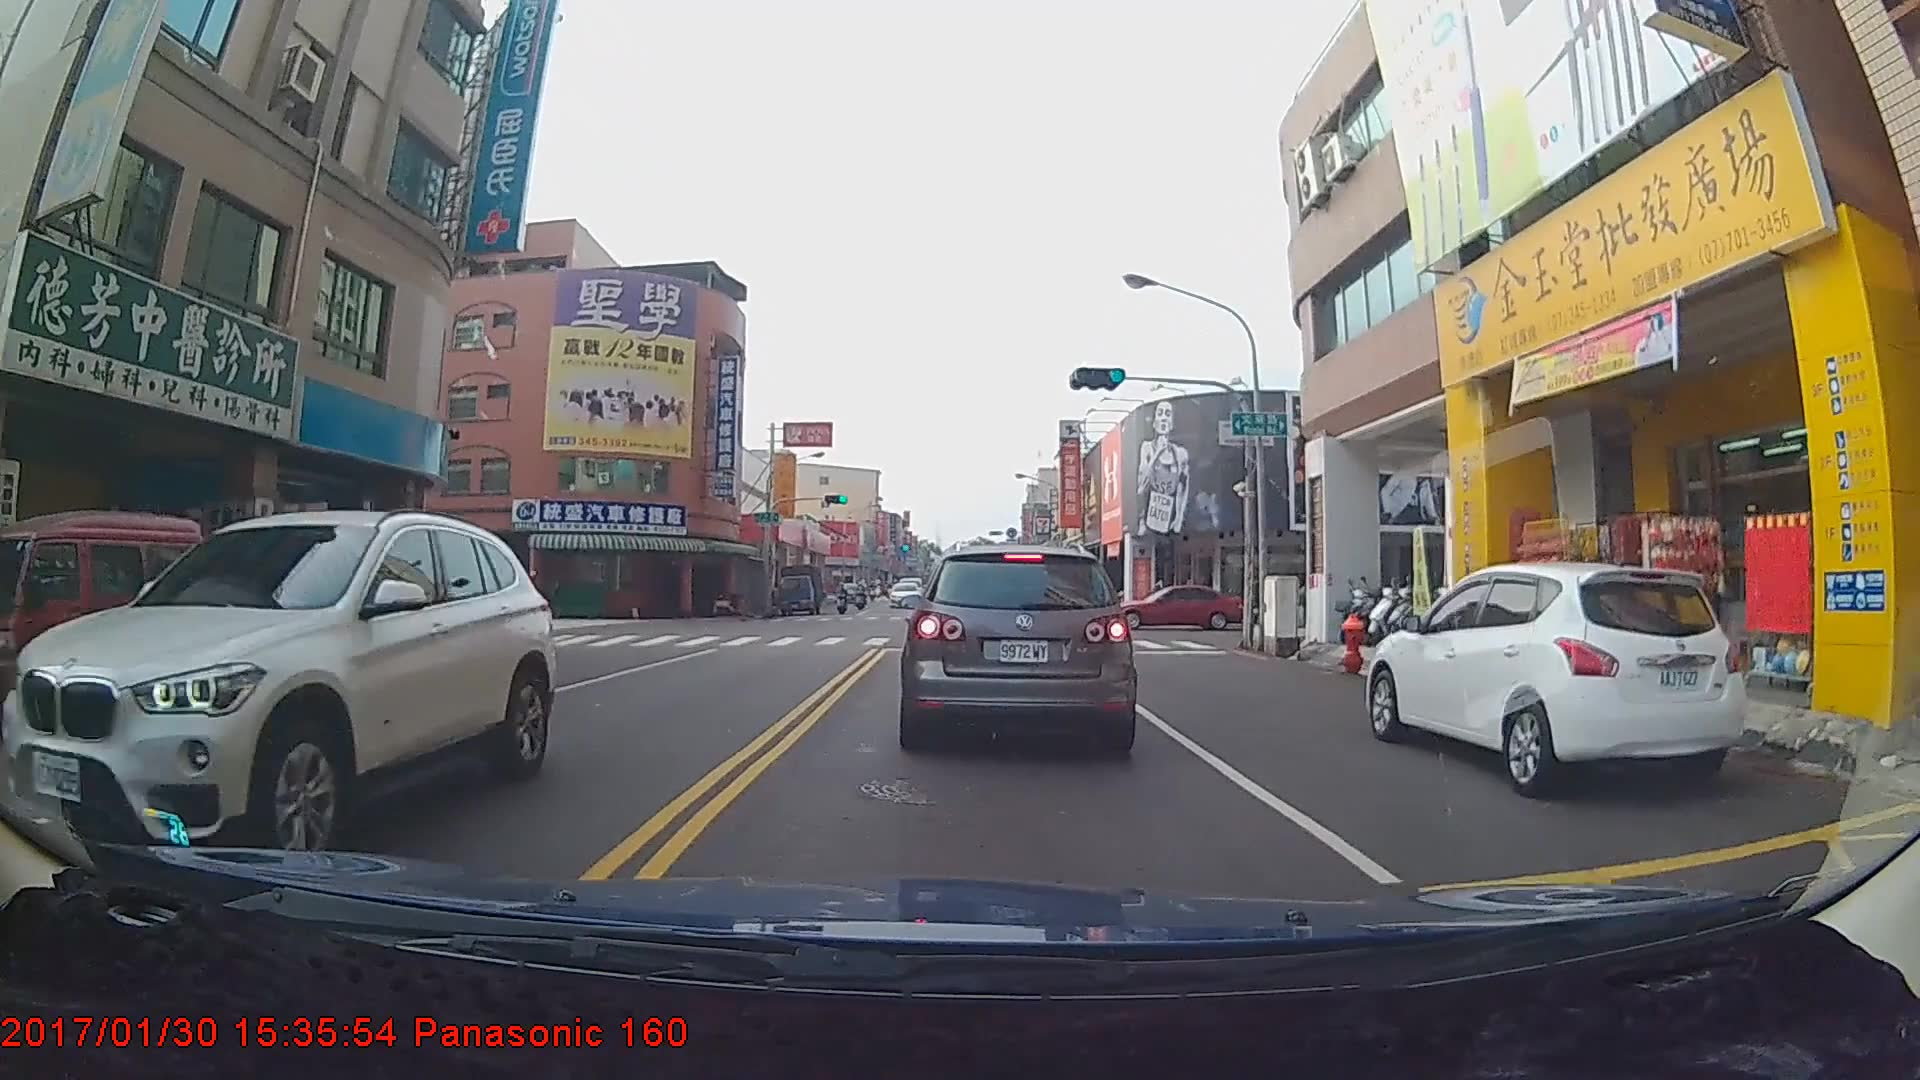rider: (830, 578, 852, 613), (847, 576, 867, 605)
vehicle: (10, 508, 552, 888), (1366, 560, 1747, 797), (904, 539, 1133, 751), (0, 511, 215, 733), (1105, 583, 1240, 634), (773, 562, 825, 614), (888, 579, 922, 608)
